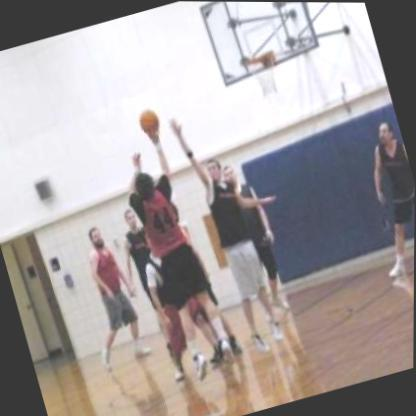basketball: (133, 103, 167, 140)
